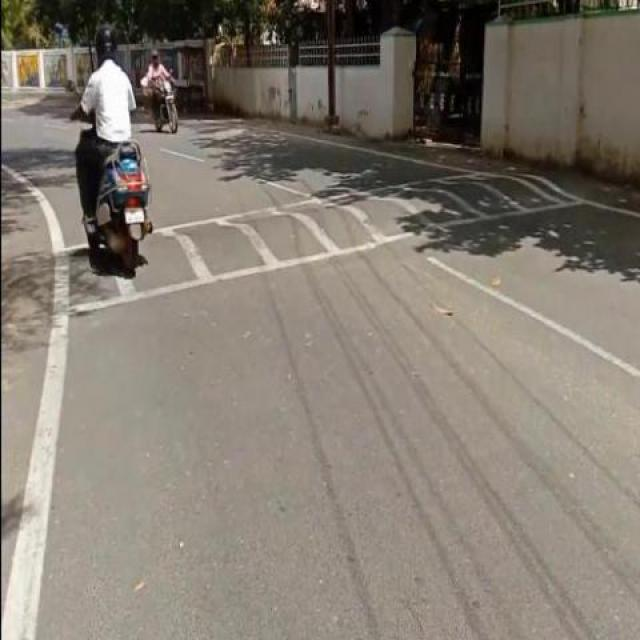Speed Bump: (155, 173, 584, 291), (1, 241, 107, 324)
